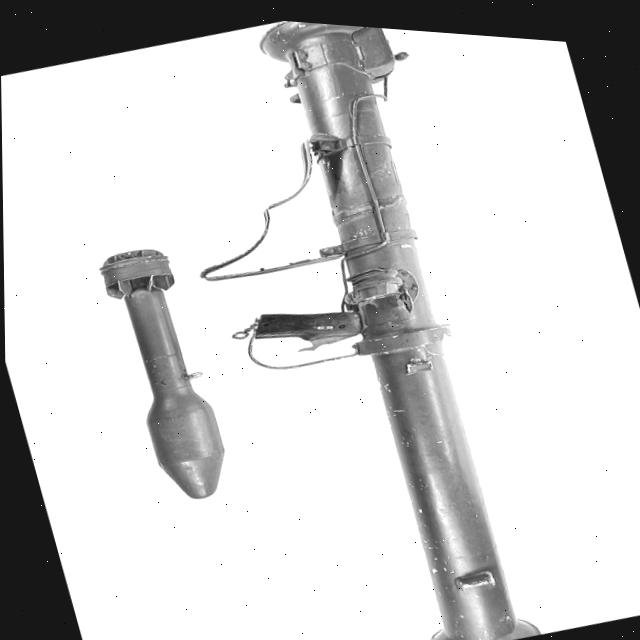grenade: (95, 234, 236, 506)
rocket: (169, 10, 566, 640)
